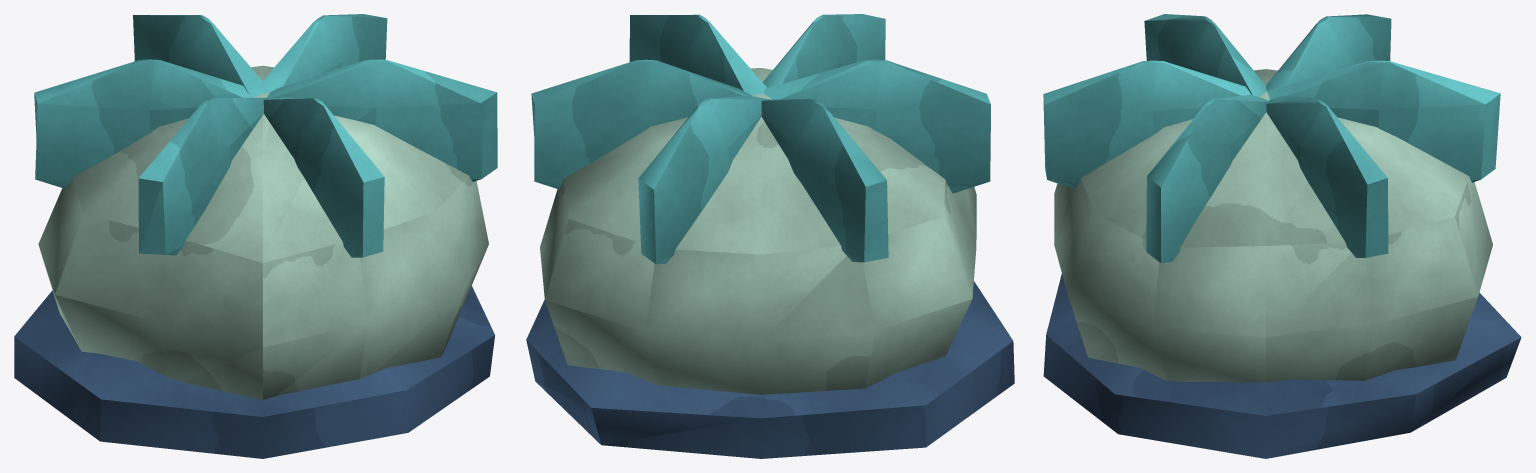
The model's file is brain_coral.glb.
3 views of the same model, side by side, from view 1: azimuth 30°, elevation 25°; view 2: azimuth 150°, elevation 25°; view 3: azimuth 270°, elevation 25° (orthographic).
Parts seen in each view (by area): view 1: DL006_BrainCoral_coral_mint, DL006_BrainCoral_coral_turq, DL006_BrainCoral_shadow_blue; view 2: DL006_BrainCoral_coral_mint, DL006_BrainCoral_coral_turq, DL006_BrainCoral_shadow_blue; view 3: DL006_BrainCoral_coral_mint, DL006_BrainCoral_coral_turq, DL006_BrainCoral_shadow_blue.
Boxes of the visible parts, <box> form: DL006_BrainCoral_coral_mint: <box>38,65,488,399</box>; DL006_BrainCoral_coral_turq: <box>34,14,497,257</box>; DL006_BrainCoral_shadow_blue: <box>14,286,494,458</box>; DL006_BrainCoral_coral_mint: <box>540,68,976,394</box>; DL006_BrainCoral_coral_turq: <box>531,14,990,264</box>; DL006_BrainCoral_shadow_blue: <box>526,281,1014,458</box>; DL006_BrainCoral_coral_mint: <box>1054,69,1492,382</box>; DL006_BrainCoral_coral_turq: <box>1043,14,1500,263</box>; DL006_BrainCoral_shadow_blue: <box>1043,273,1521,458</box>.
Bounding box in the file's own units: 1.6 × 1.28 × 1.61.
3 materials, 3 textured.
